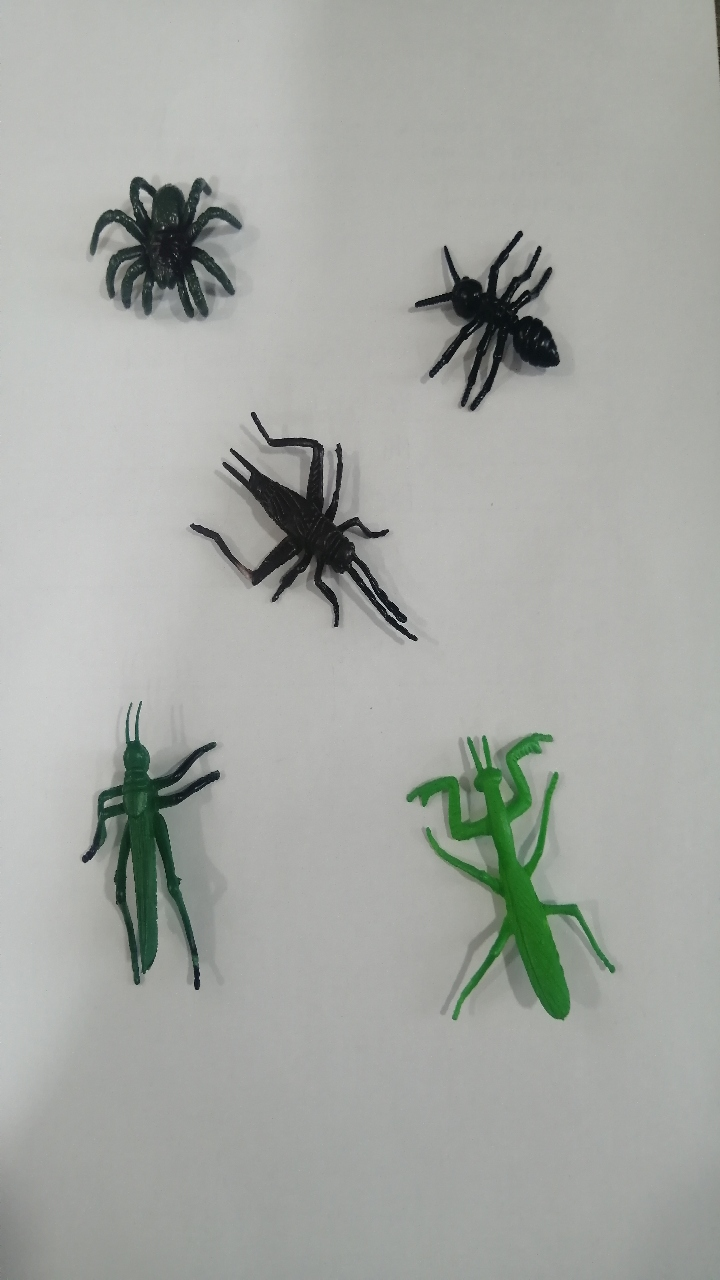intruso: (392, 700, 632, 1048), (177, 388, 452, 663), (58, 699, 258, 1008), (401, 199, 588, 442), (60, 159, 260, 345)
